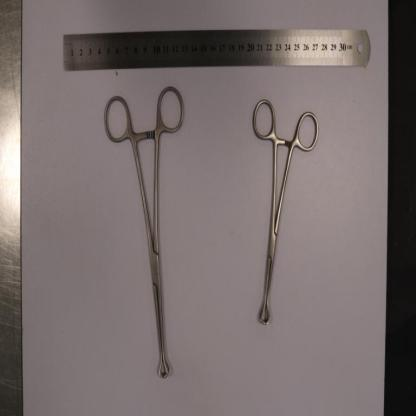8 Babcock Tissue Forceps: (104, 85, 184, 377)
Babcock Tissue Forceps: (253, 100, 320, 325)
